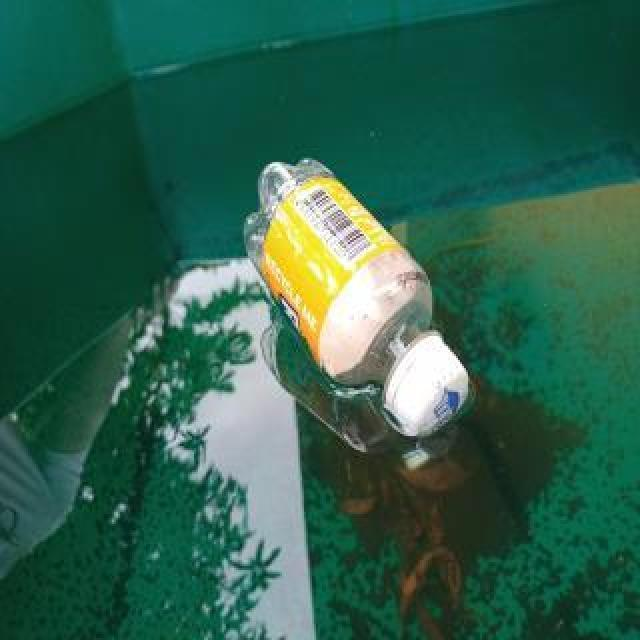plastic: (242, 159, 466, 432)
vinyl: (254, 174, 406, 362)
